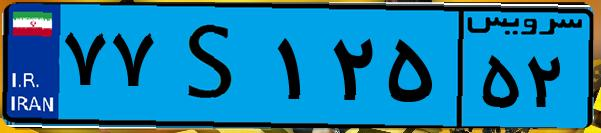1: (270, 28, 330, 110)
2: (330, 28, 385, 110), (525, 38, 570, 115)
5: (385, 28, 445, 110), (475, 38, 525, 113)
7: (57, 26, 110, 100), (110, 28, 158, 98)
S: (158, 12, 270, 120)
